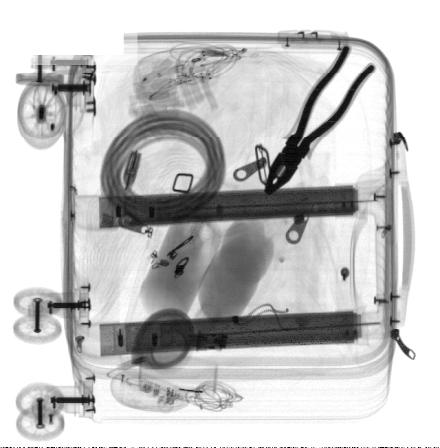Pliers: (264, 42, 376, 194)
